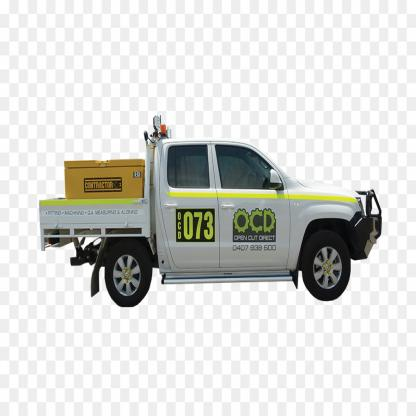light_vehicle: (35, 104, 392, 312)
